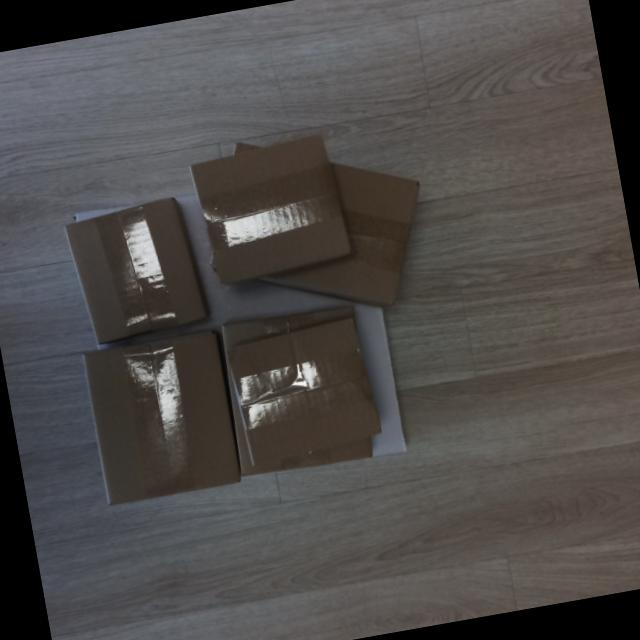box: (74, 322, 248, 512), (185, 128, 362, 292), (220, 312, 392, 471), (57, 187, 216, 352)
